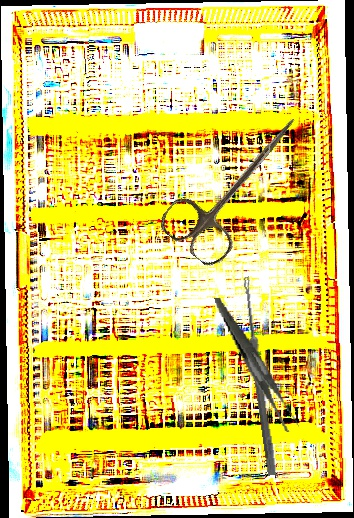Dressing Forceps: (214, 286, 300, 442)
Iris Scissors: (155, 93, 320, 272)
Surgical Spoon: (240, 276, 278, 476)
